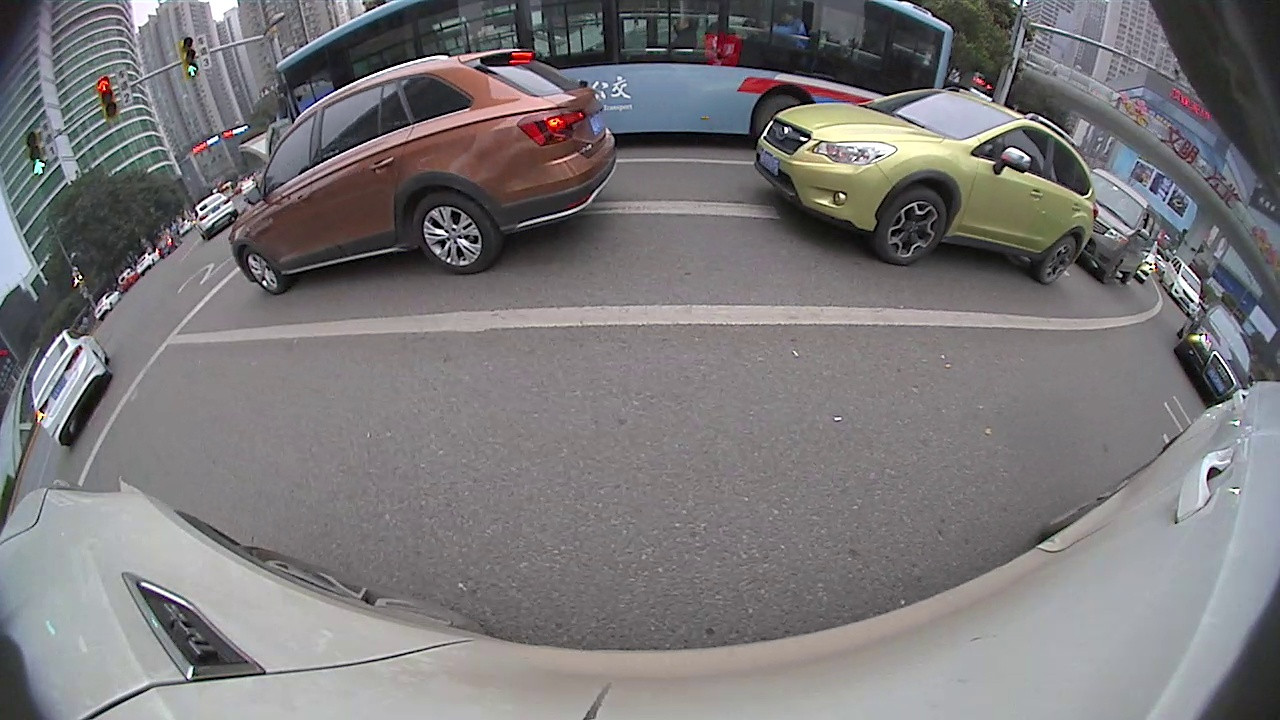bus: (275, 1, 957, 144)
car: (229, 45, 623, 297), (751, 84, 1101, 286), (28, 327, 115, 450), (1077, 165, 1165, 286), (1171, 298, 1254, 409), (1159, 254, 1204, 320), (193, 189, 242, 242)
front: (871, 183, 952, 269), (236, 244, 287, 296)
rear: (408, 187, 502, 278), (749, 90, 813, 160), (1034, 233, 1081, 287)
